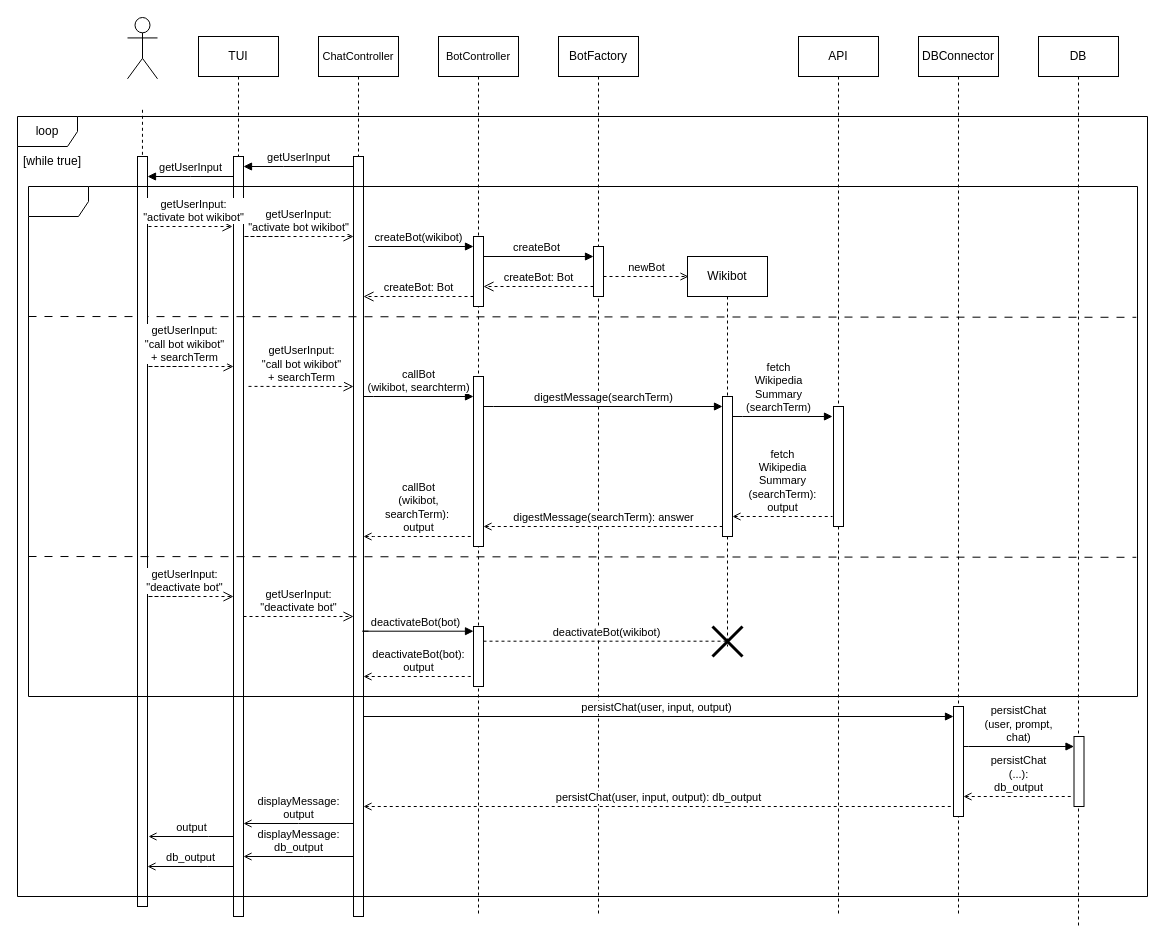
This 1165x944 diagram has some shape labels left out. Each missing label, with the box of its shape:
alt: (28, 186, 1138, 696)
User: (126, 16, 158, 79)
